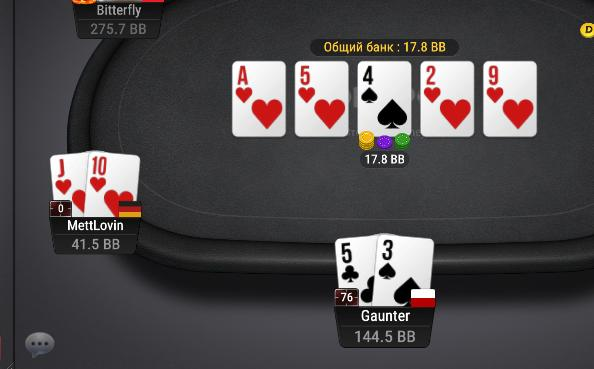10h: (88, 150, 140, 219)
2h: (421, 62, 474, 136)
3s: (376, 234, 434, 306)
4s: (358, 62, 411, 136)
5c: (332, 238, 376, 305)
5h: (296, 63, 349, 136)
9h: (483, 62, 536, 137)
Ah: (232, 62, 285, 136)
Jh: (50, 156, 86, 218)
